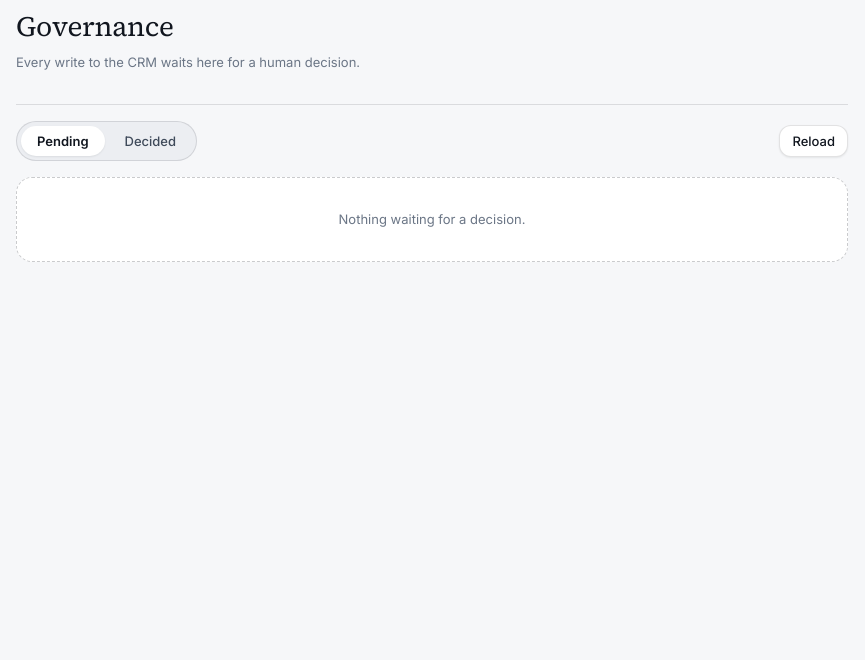
Test: ApprovalQueue › the Decided tab reads decided drafts and expands their receipts
Expected: the text "Nothing waiting for a decision." is shown, [16,178,848,262]
Click the tab "Decided" at (150, 141), box [108,126,192,156]
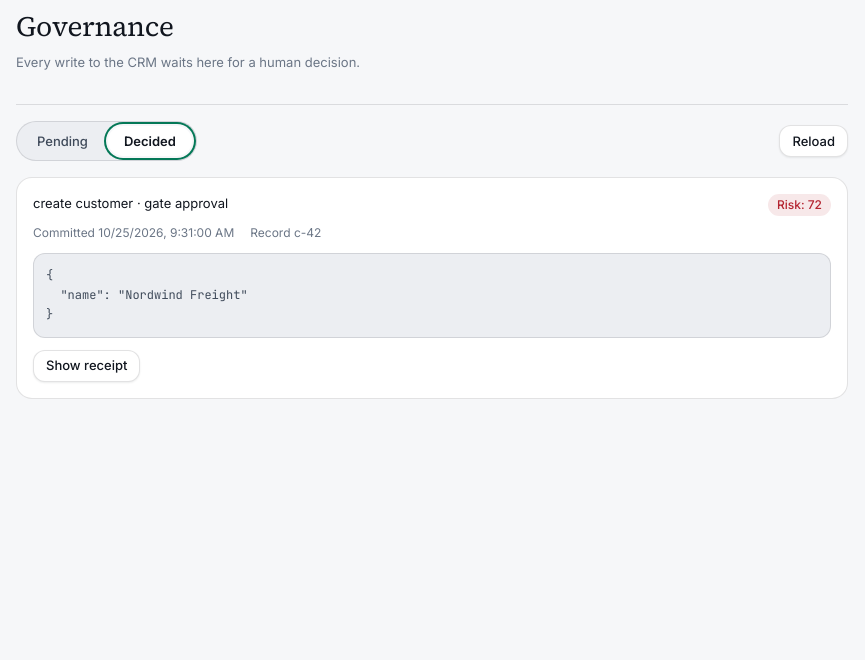
Expected: the button "Approve" is not shown
Expected: the text "Record c-42" is shown, [250,225,321,241]
Click the button "Show receipt" at (87, 366), box [33,350,140,382]
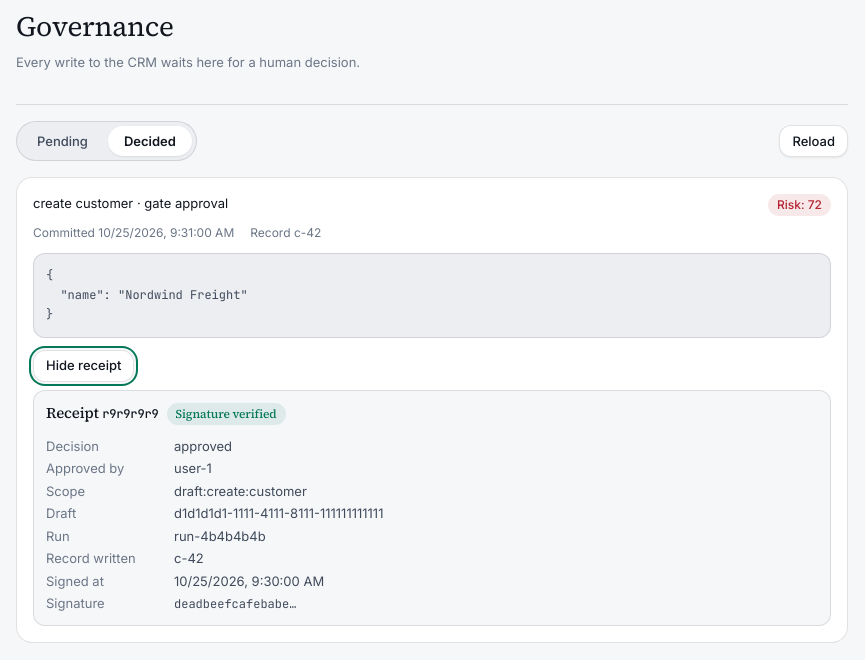
Expected: the text "Signature verified" is shown, [167,402,286,424]
